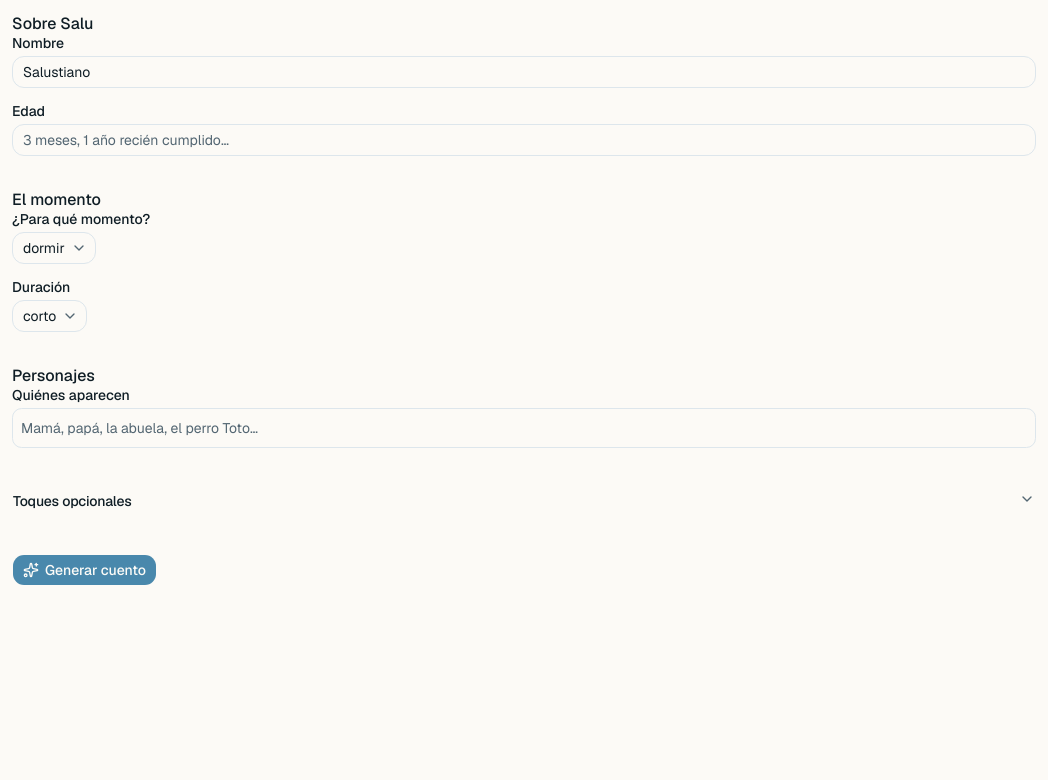
Test case: StoryForm › submit con personajes vacíos muestra error de validación
Step 1. Type "3 meses" into the field labelled "Edad" → coordinates (524, 140), box left=12, top=124, right=1036, bottom=156
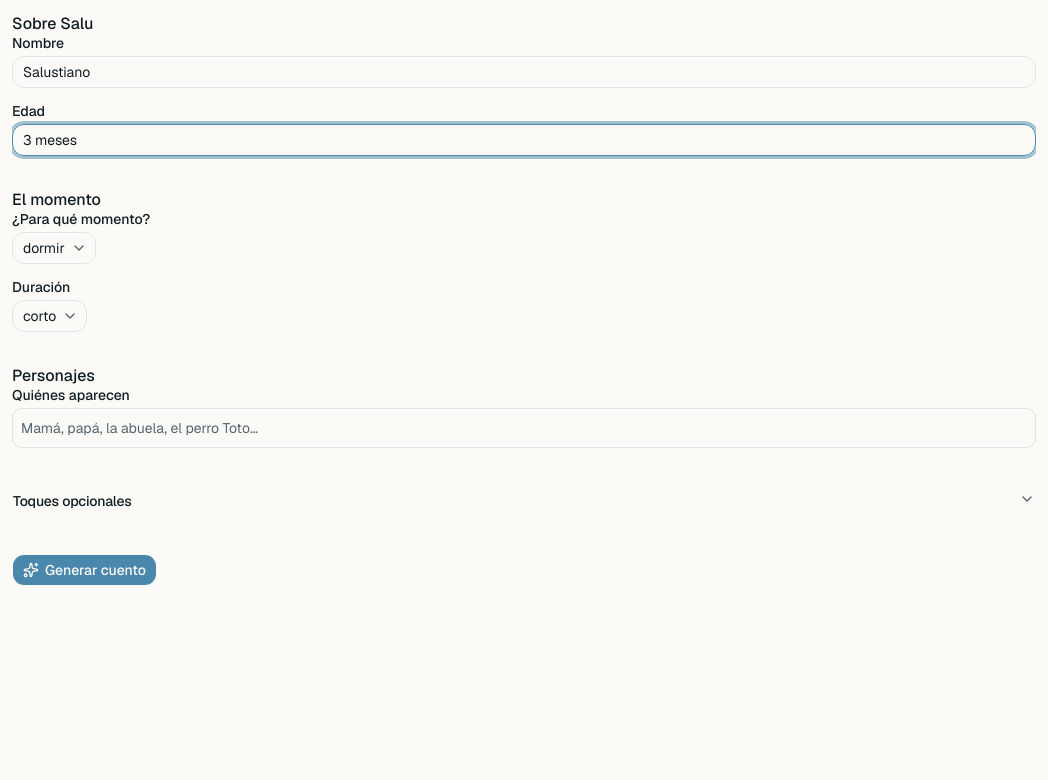
Step 2. Click the button "Generar cuento" → coordinates (85, 570), box left=12, top=554, right=157, bottom=586
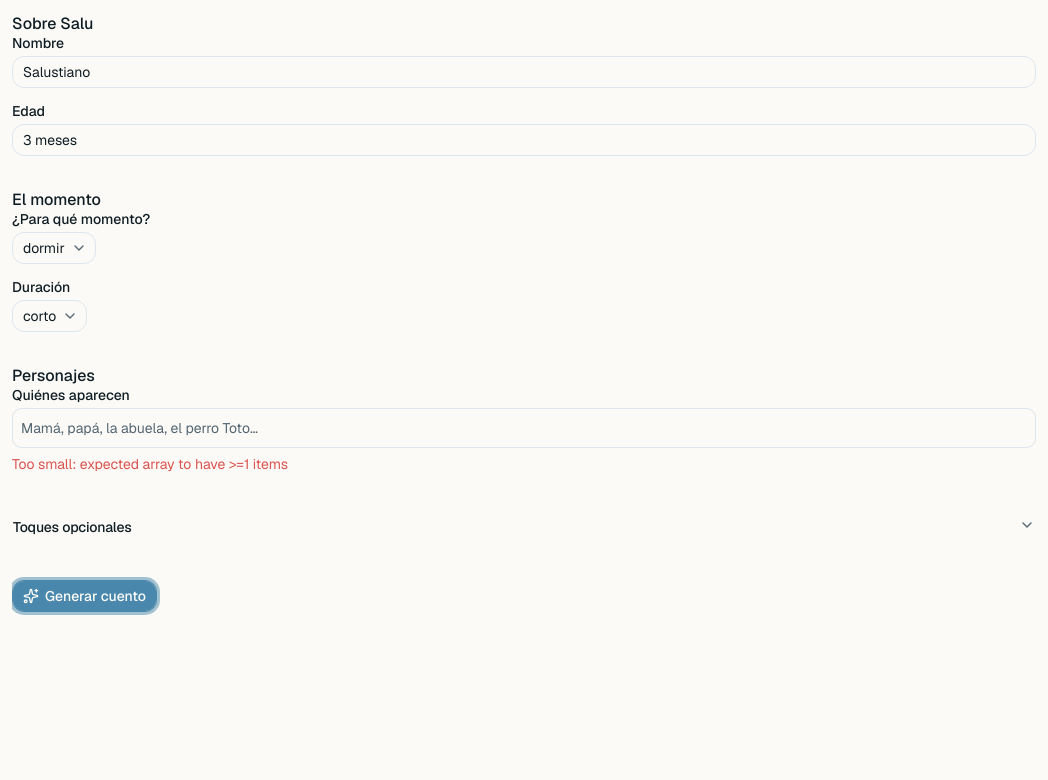
Expected: the text "Too small: expected array to have >=1 items" is shown, left=12, top=455, right=288, bottom=473
